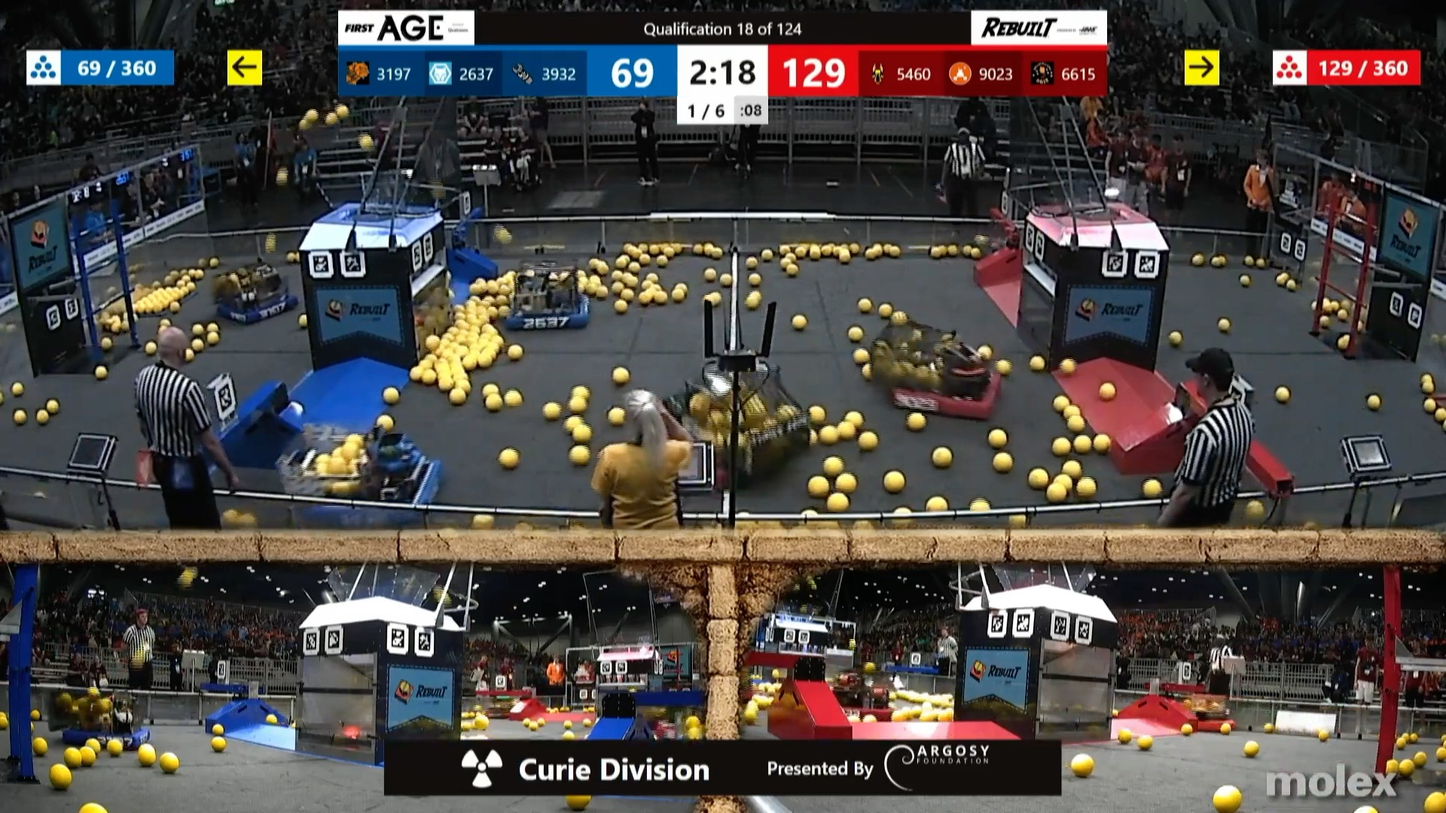bumpers: (285, 458, 452, 529), (880, 376, 1006, 422), (54, 716, 164, 764), (484, 292, 599, 335), (207, 288, 313, 326), (837, 703, 896, 727), (1194, 715, 1241, 737)
